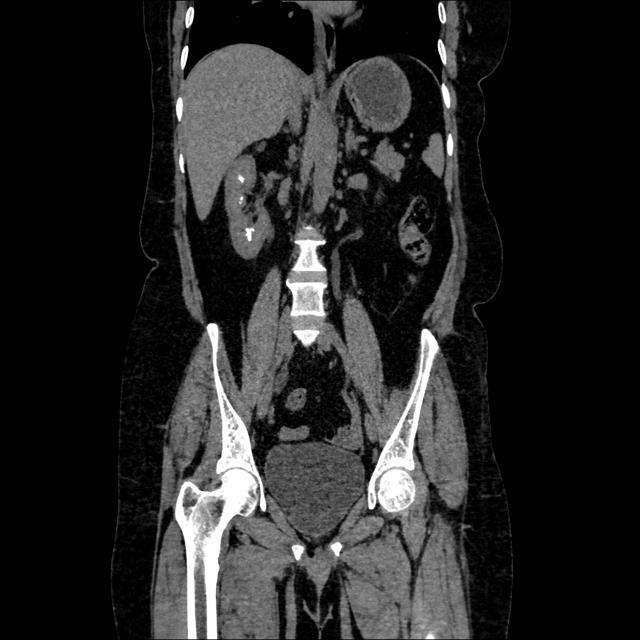kidney: (230, 152, 272, 256)
stone: (246, 228, 252, 241), (239, 177, 244, 182), (240, 197, 243, 200)
